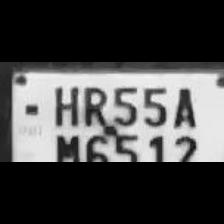1: (141, 130, 169, 160)
2: (168, 130, 198, 160)
5: (106, 82, 140, 127), (139, 83, 169, 127), (110, 129, 140, 159)
6: (80, 130, 108, 160)
A: (168, 82, 200, 130)
H: (47, 82, 79, 128)
M: (49, 130, 81, 160)
R: (78, 82, 108, 128)
